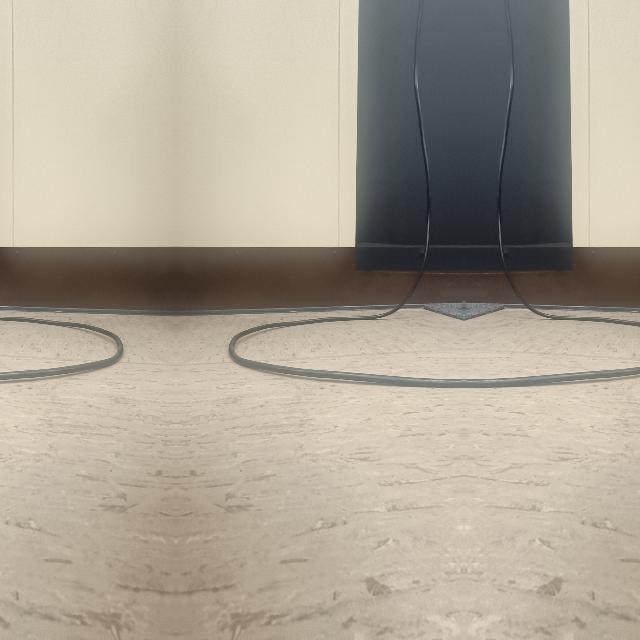obstacle: (224, 320, 463, 392), (463, 319, 640, 392), (0, 319, 125, 392)
